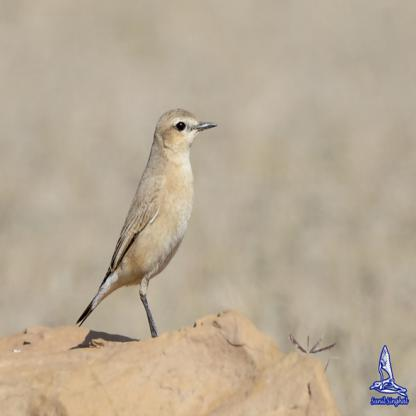Burung: (72, 102, 220, 345)
